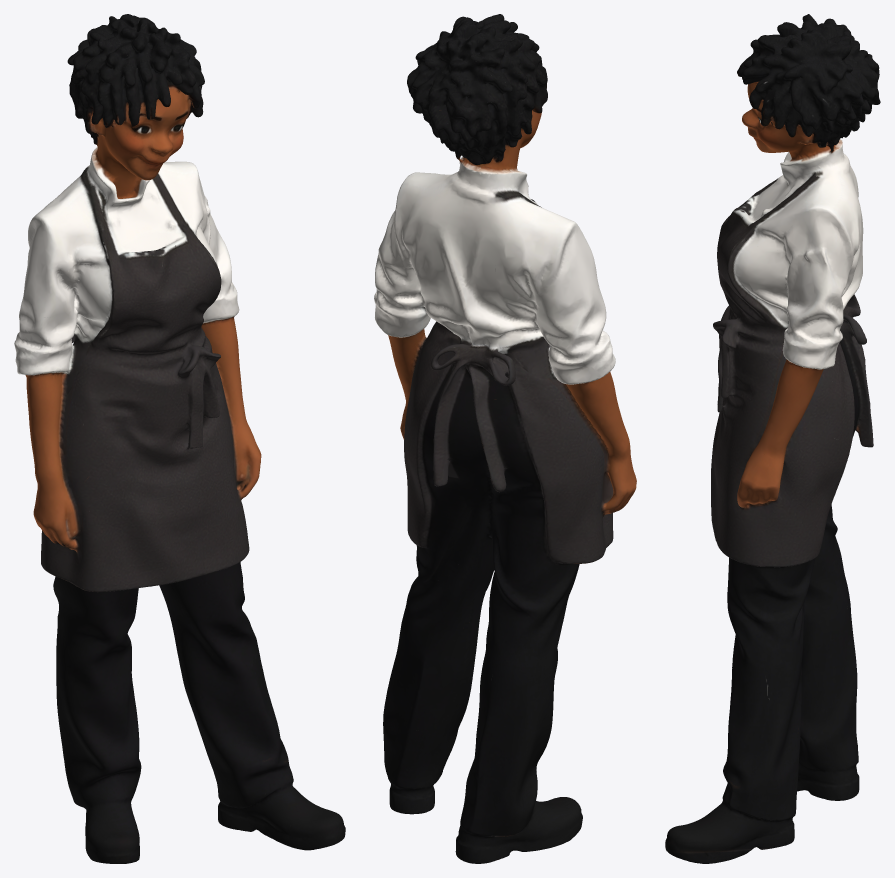
The model's file is chef_base.glb.
The picture shows the model from 3 angles, left to right: view 1: azimuth 30°, elevation 25°; view 2: azimuth 150°, elevation 25°; view 3: azimuth 270°, elevation 25°; orthographic projection. The views are drawn at different scales.
Bounding box in the file's own units: 0.6607 × 1.9 × 0.4789.
1 material, 1 textured.
